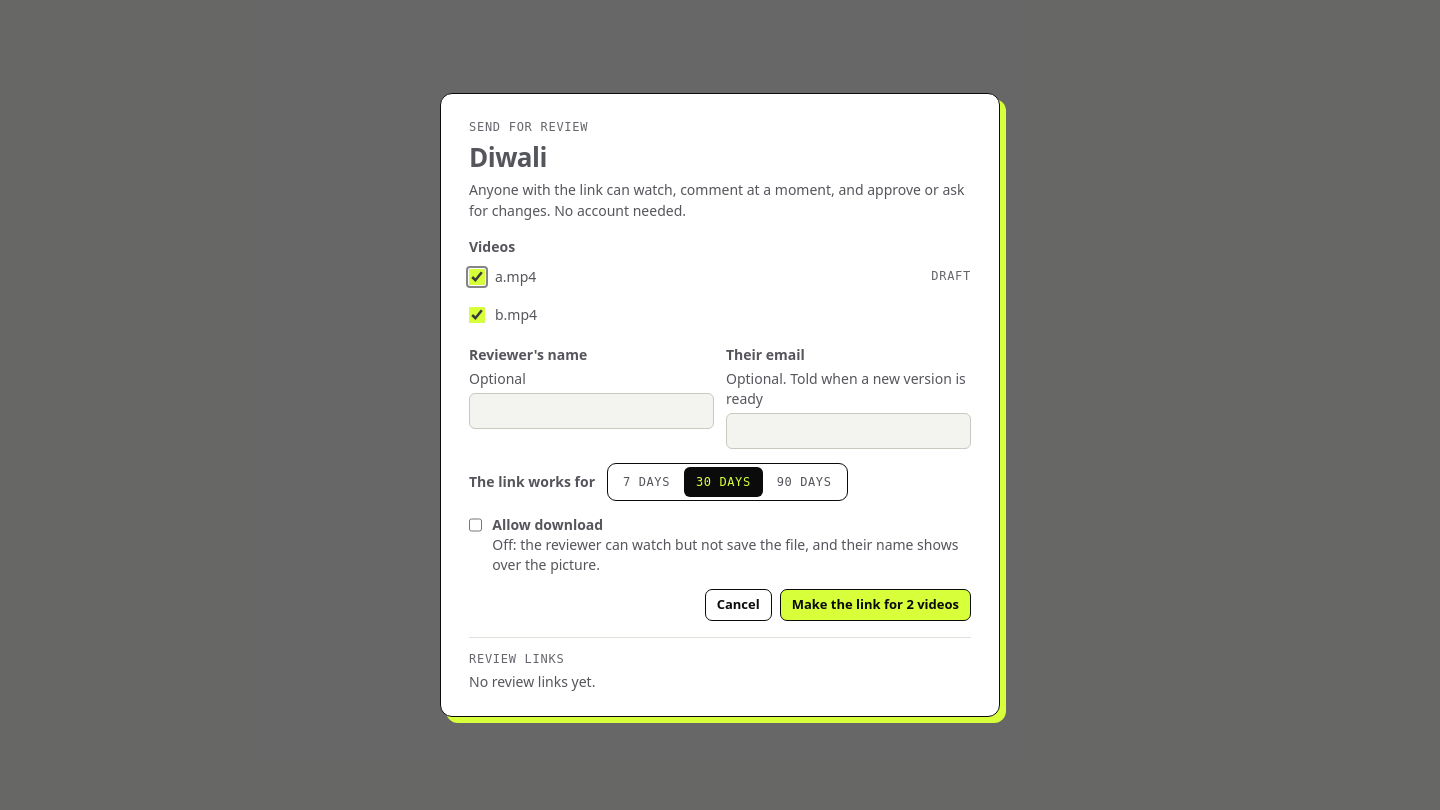
Scenario: C2: Send for review › makes a link for the picked videos with name, email, expiry and download off, then lists it
The image size is (1440, 810).
Expected: the text "No review links yet." is shown, [469, 672, 595, 691]
Click the checkbox labelled "b.mp4".
click(477, 315)  # box [469, 307, 485, 323]
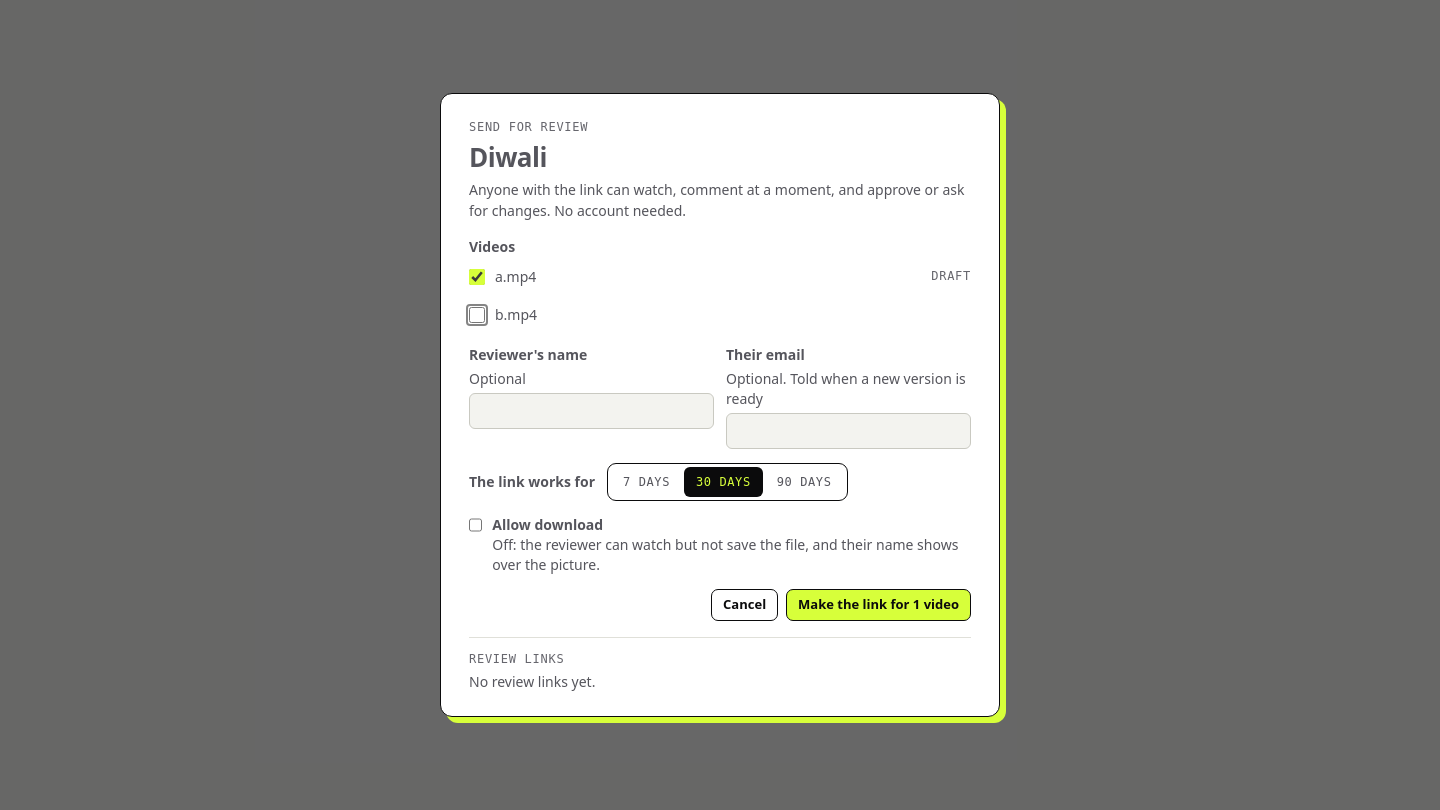
Type "Priya" into the field labelled "Reviewer's name Optional".
click(592, 411); type("Priya")  # box [469, 393, 714, 429]
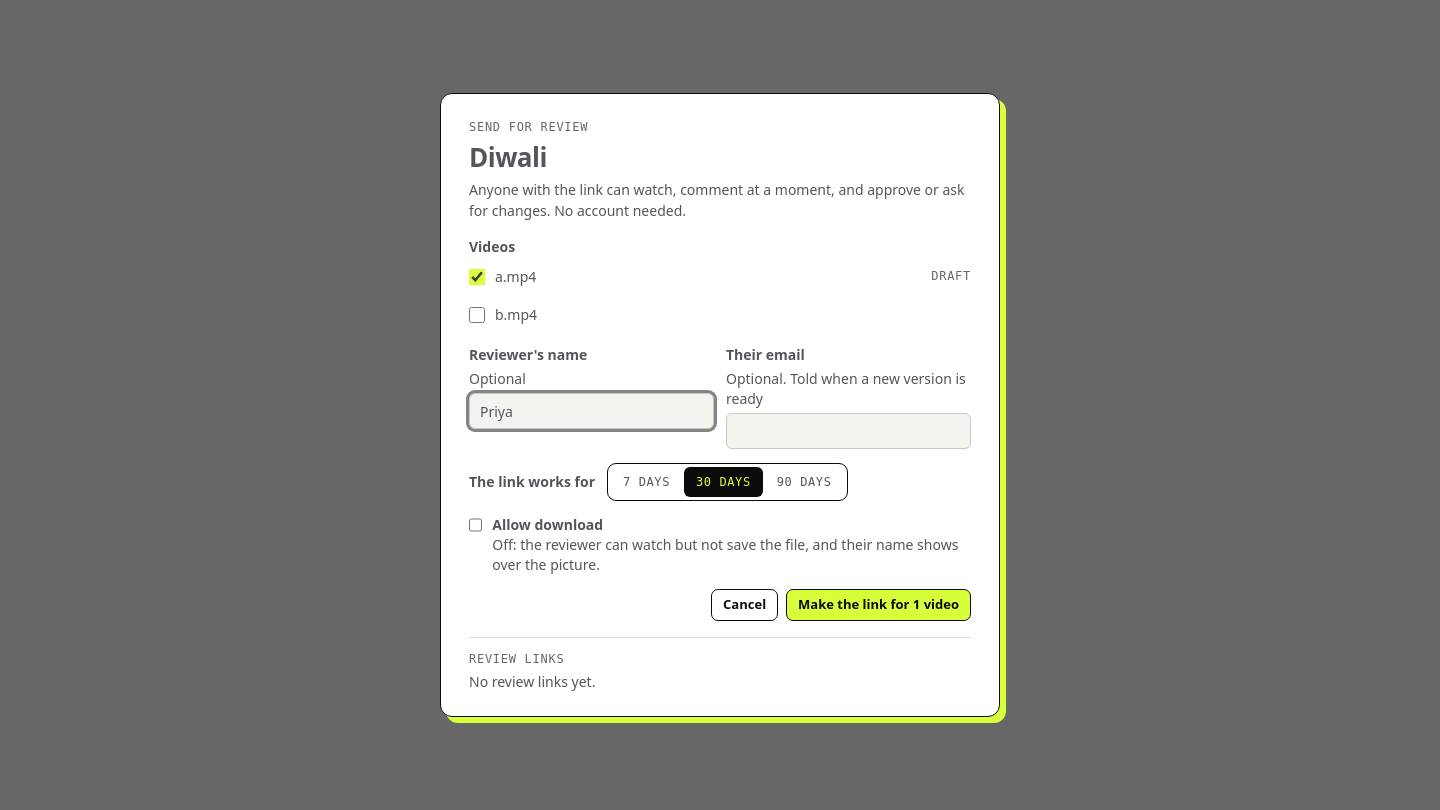
Type "nope" into the field labelled "Their email Optional. Told when a new version is ready".
click(848, 431); type("nope")  # box [726, 413, 971, 449]
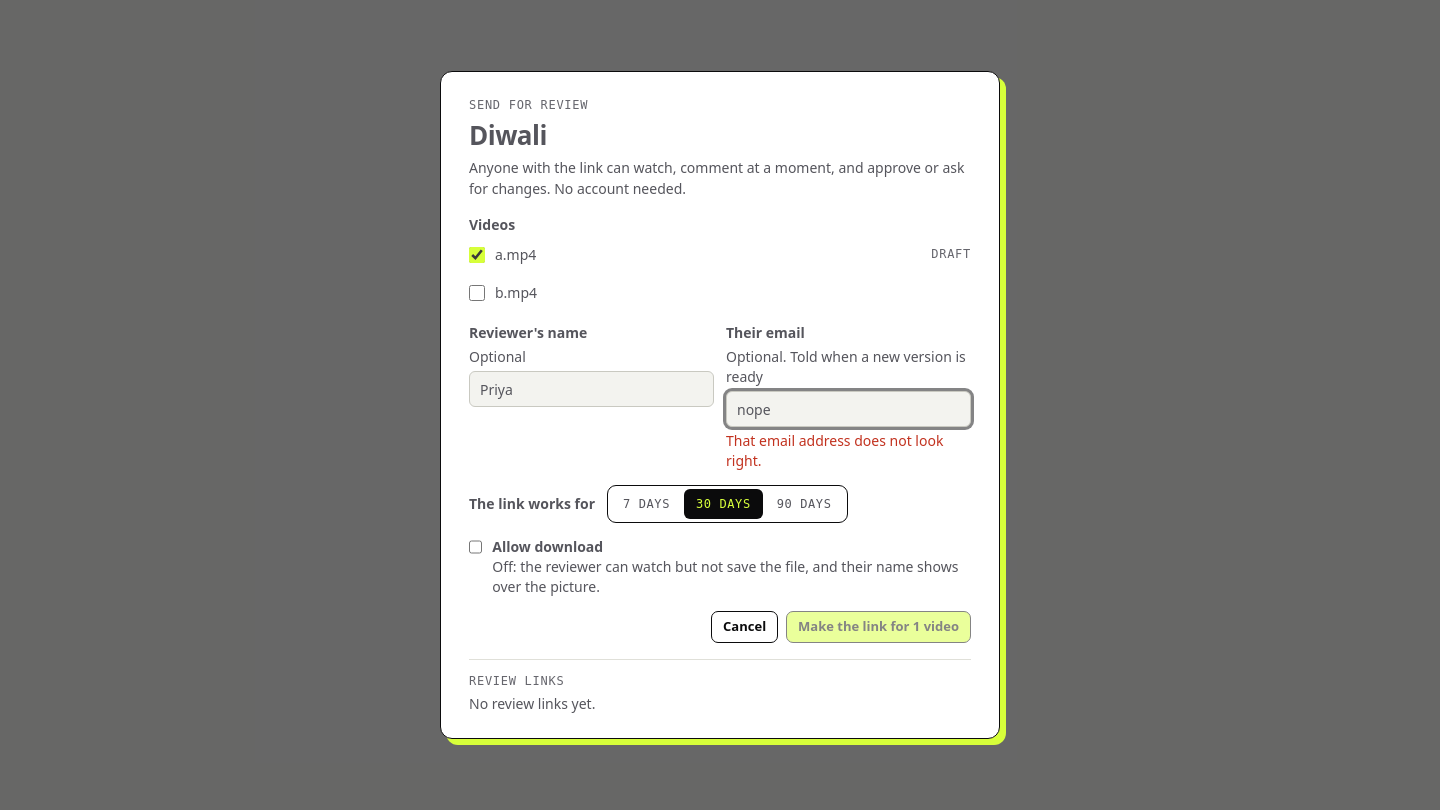
Now the text "That email address does not look right." is shown, box [726, 431, 971, 471]
Now the button "Make the link for 1 video" is disabled, box [786, 611, 971, 643]
Clear the field labelled "Their email" at (848, 409), box [726, 391, 971, 427]
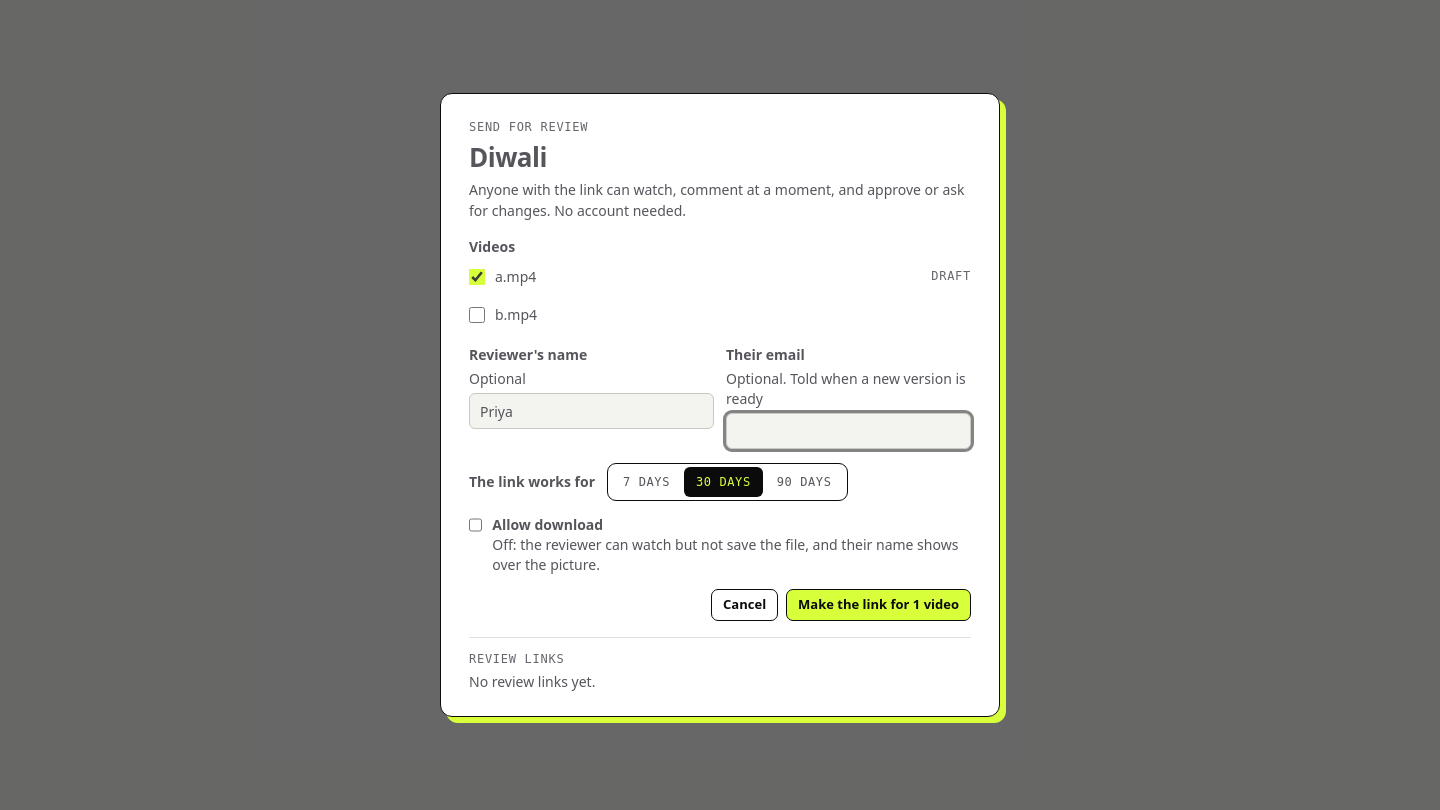
Type "p@c.io" into the field labelled "Their email Optional. Told when a new version is ready".
click(848, 431); type("p@c.io")  # box [726, 413, 971, 449]
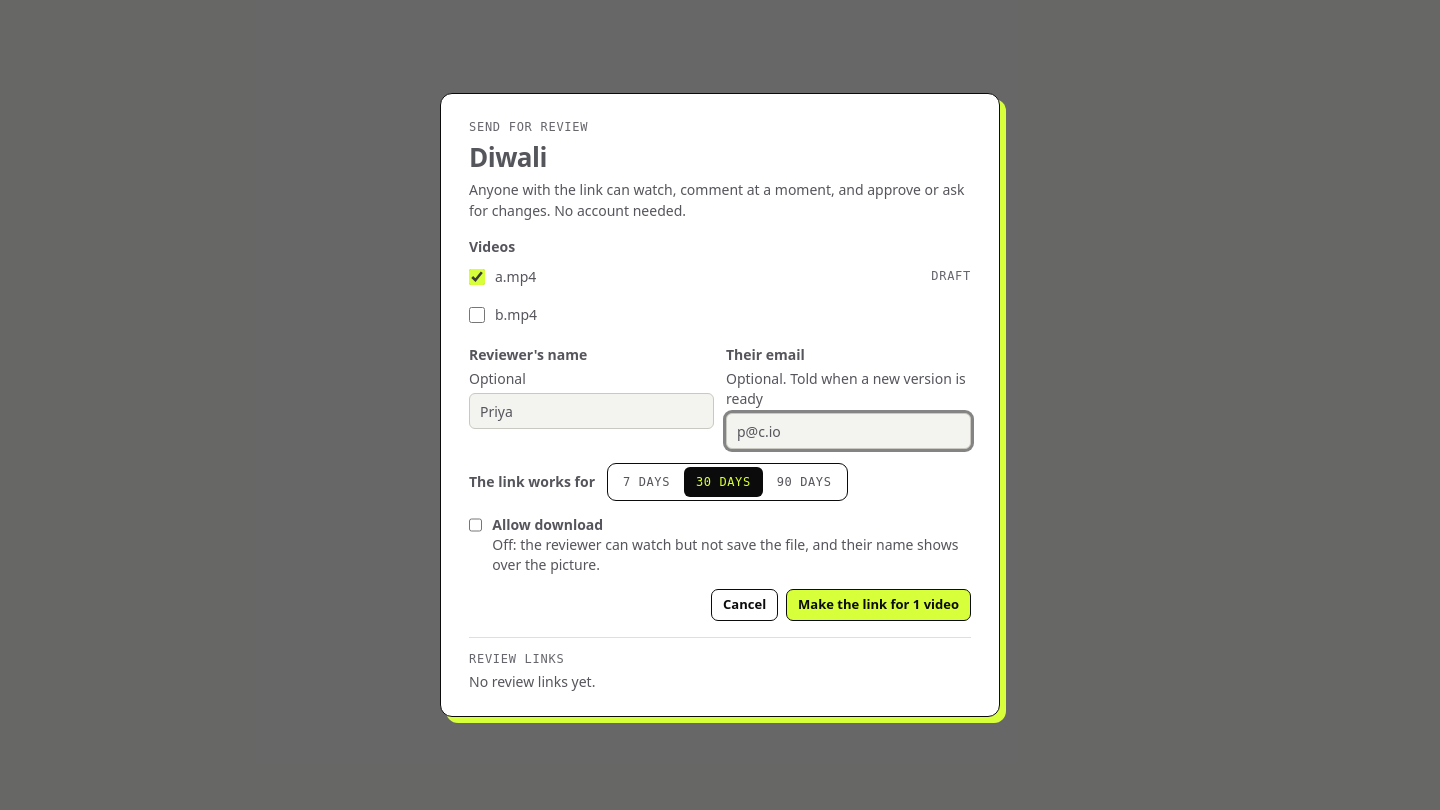
Expected: the checkbox labelled "Allow download" is not checked, [469, 517, 482, 533]
Click the button "Make the link for 1 video".
click(879, 605)  # box [786, 589, 971, 621]
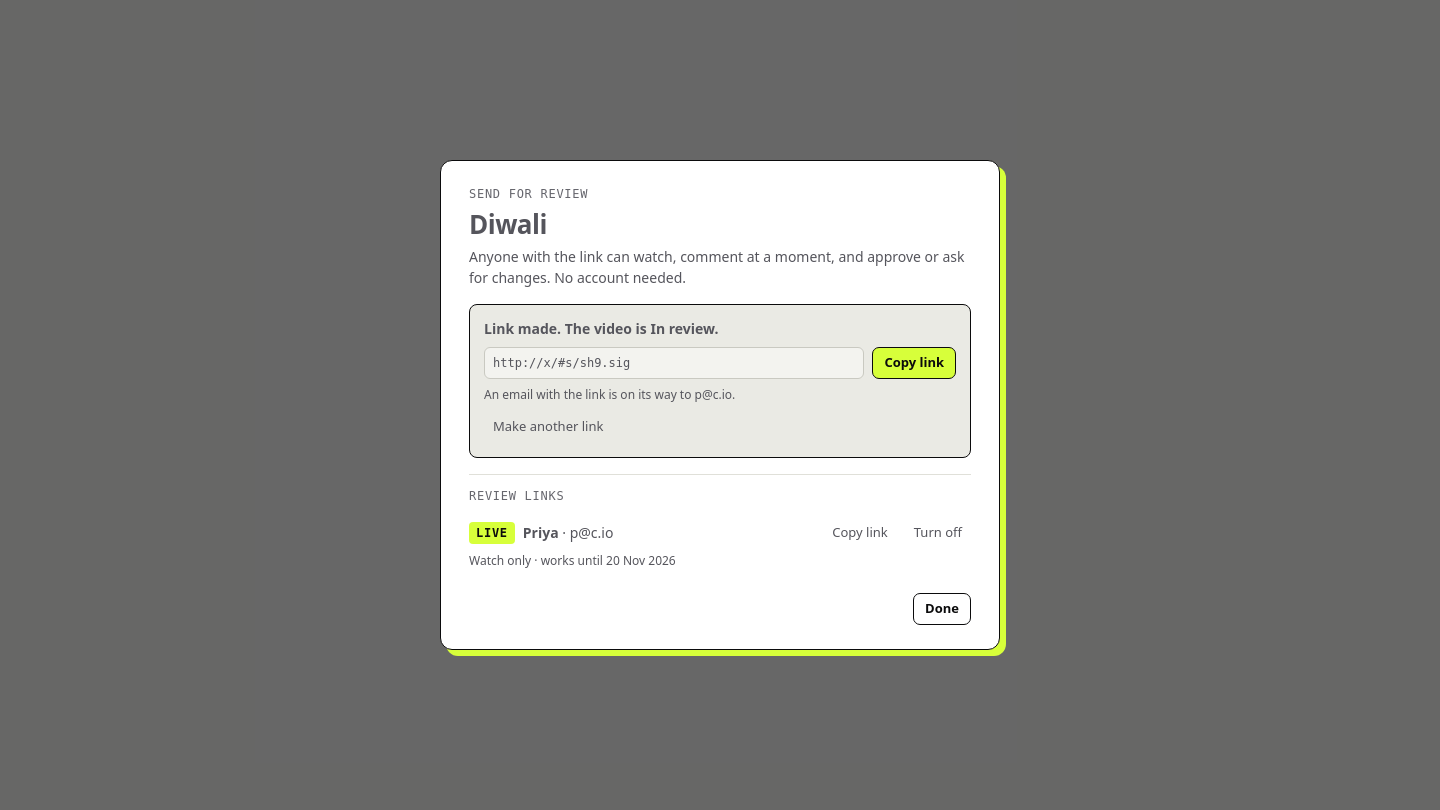
Now the field named "Review link" holds "http://x/#s/sh9.sig", box [484, 347, 864, 379]
Now the number of list items with test id "review-link" is 1, box [469, 509, 971, 577]
Now the list item with test id "review-link" shows "Watch only", box [469, 552, 531, 569]
